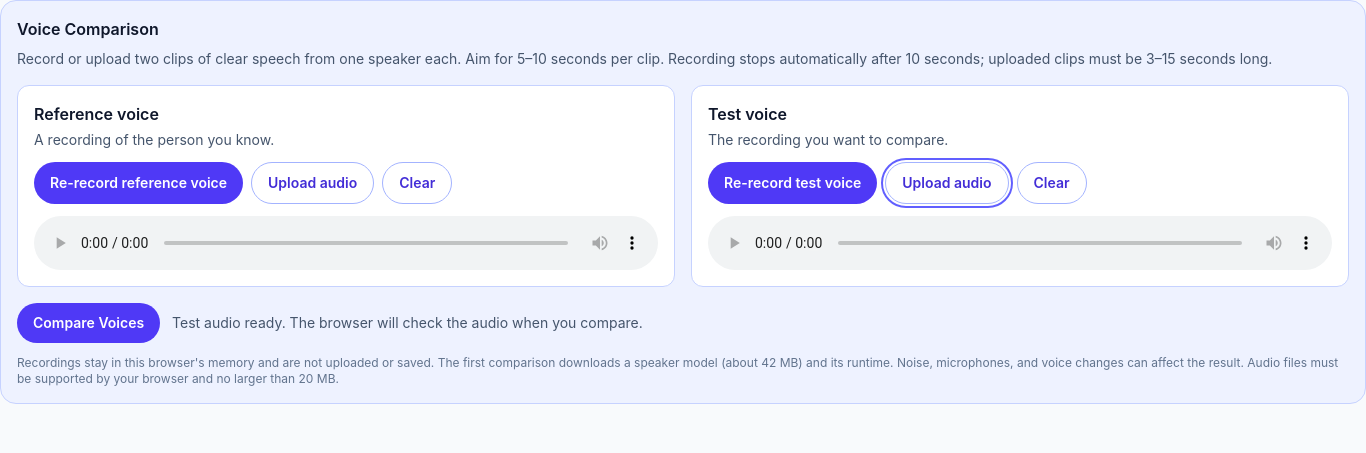
shows a safe comparison error and enables another attempt
Earlier steps of the test are not shown.
Click the button "Compare Voices" at x=89, y=323, box [17,303,160,343]
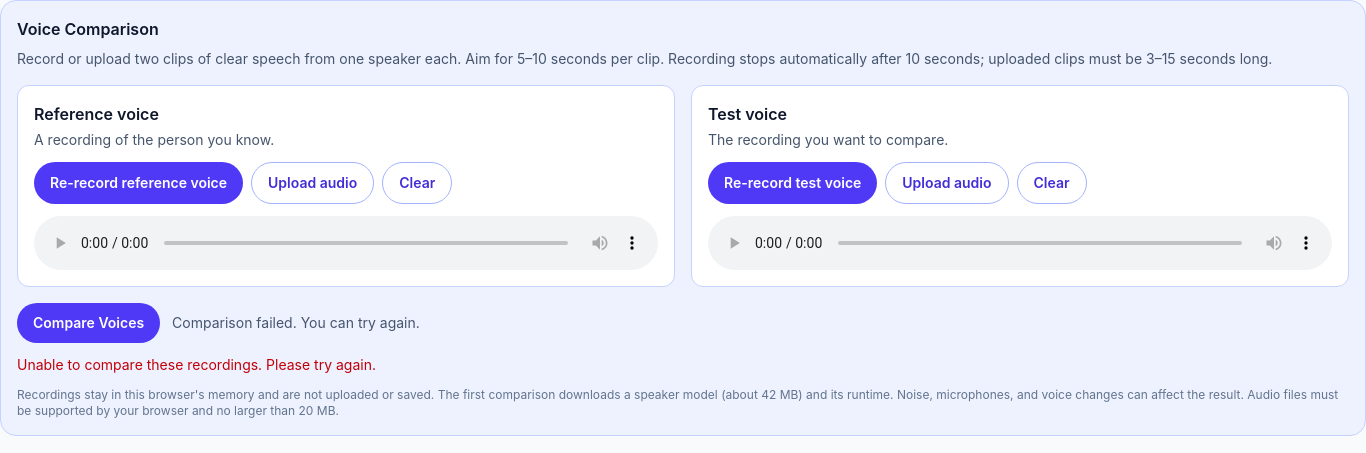
Now the message "Unable to compare these recordings. Please try again." is shown, box [17,356,376,373]
